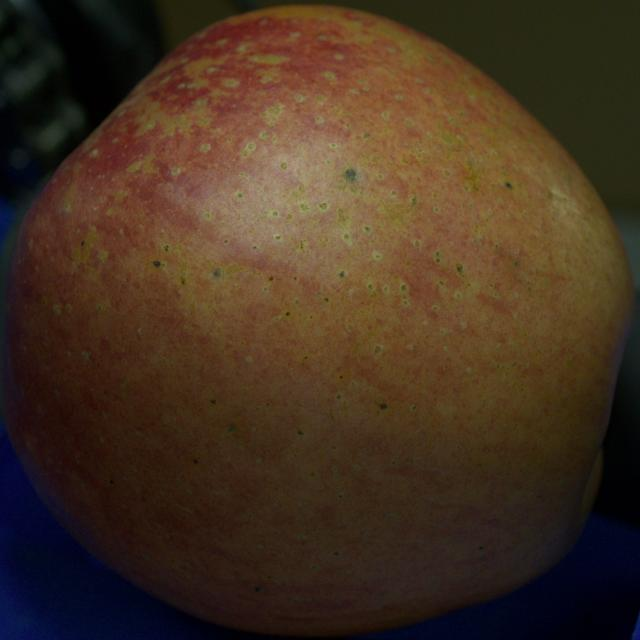apple: (2, 6, 634, 635)
pest: (346, 168, 355, 181)
